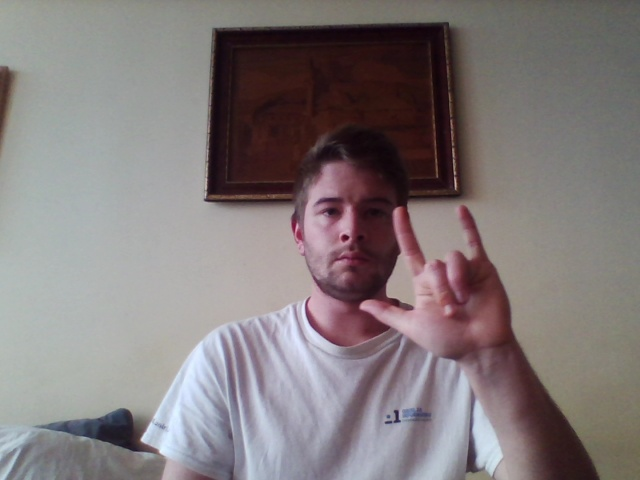volimte: (356, 198, 510, 354)
